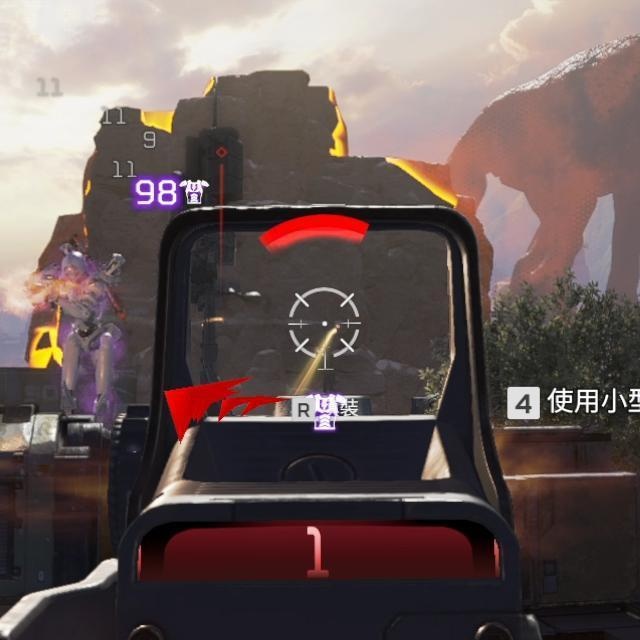avatar: (41, 248, 127, 415)
